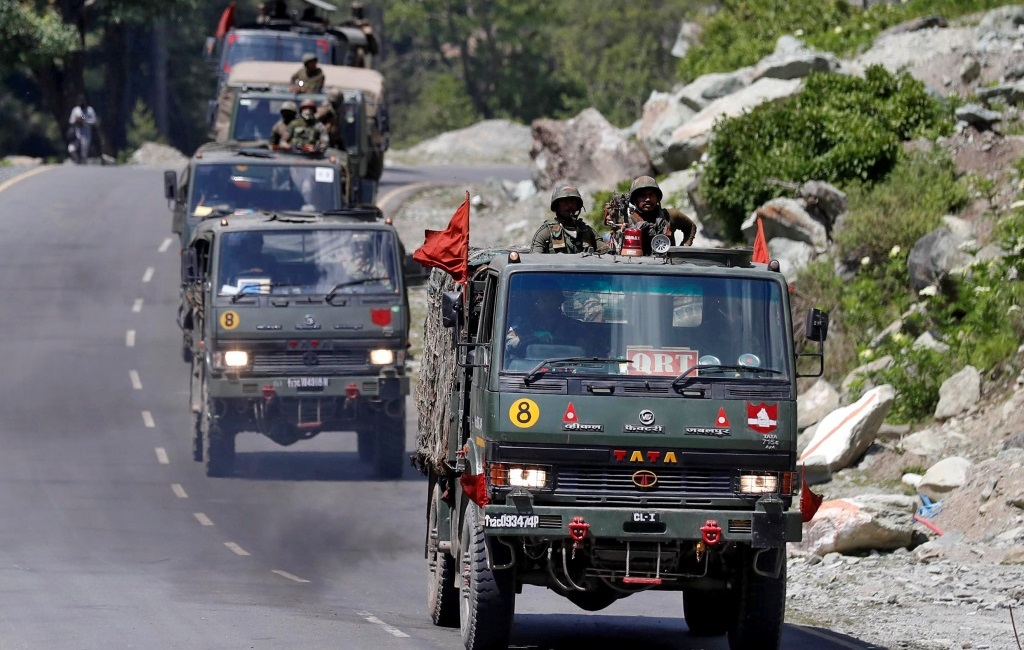army vehicle: (414, 245, 835, 648), (177, 214, 412, 477), (163, 139, 352, 217), (196, 3, 383, 66), (218, 74, 366, 153)
